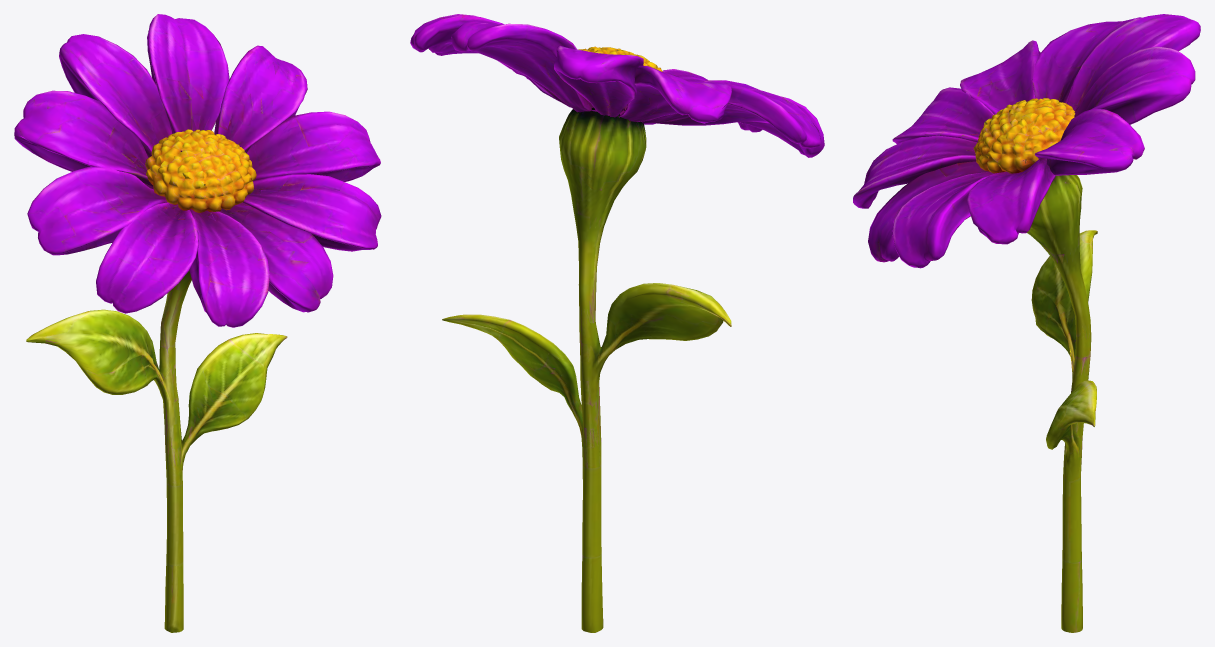
Rendered from daisy_purple.glb.
The picture shows the model from 3 angles, left to right: view 1: azimuth 30°, elevation 25°; view 2: azimuth 150°, elevation 25°; view 3: azimuth 270°, elevation 25°; orthographic projection. The views are drawn at different scales.
Visible parts, largest first — view 1: geometry_0; view 2: geometry_0; view 3: geometry_0.
Part boxes in pixels (<box>): geometry_0: <box>14,14,381,632</box>; geometry_0: <box>410,14,824,632</box>; geometry_0: <box>853,14,1200,632</box>.
Bounding box in the file's own units: 0.5938 × 0.9521 × 0.5039.
1 material, 1 textured.
